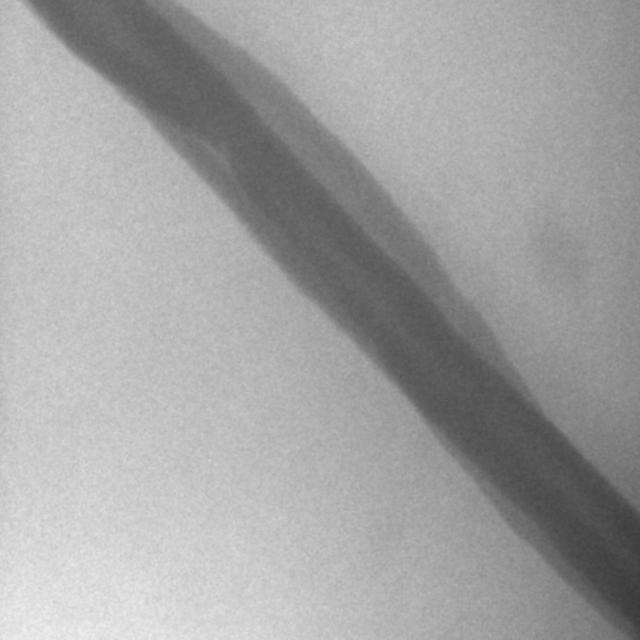unfused: (206, 46, 524, 506)
